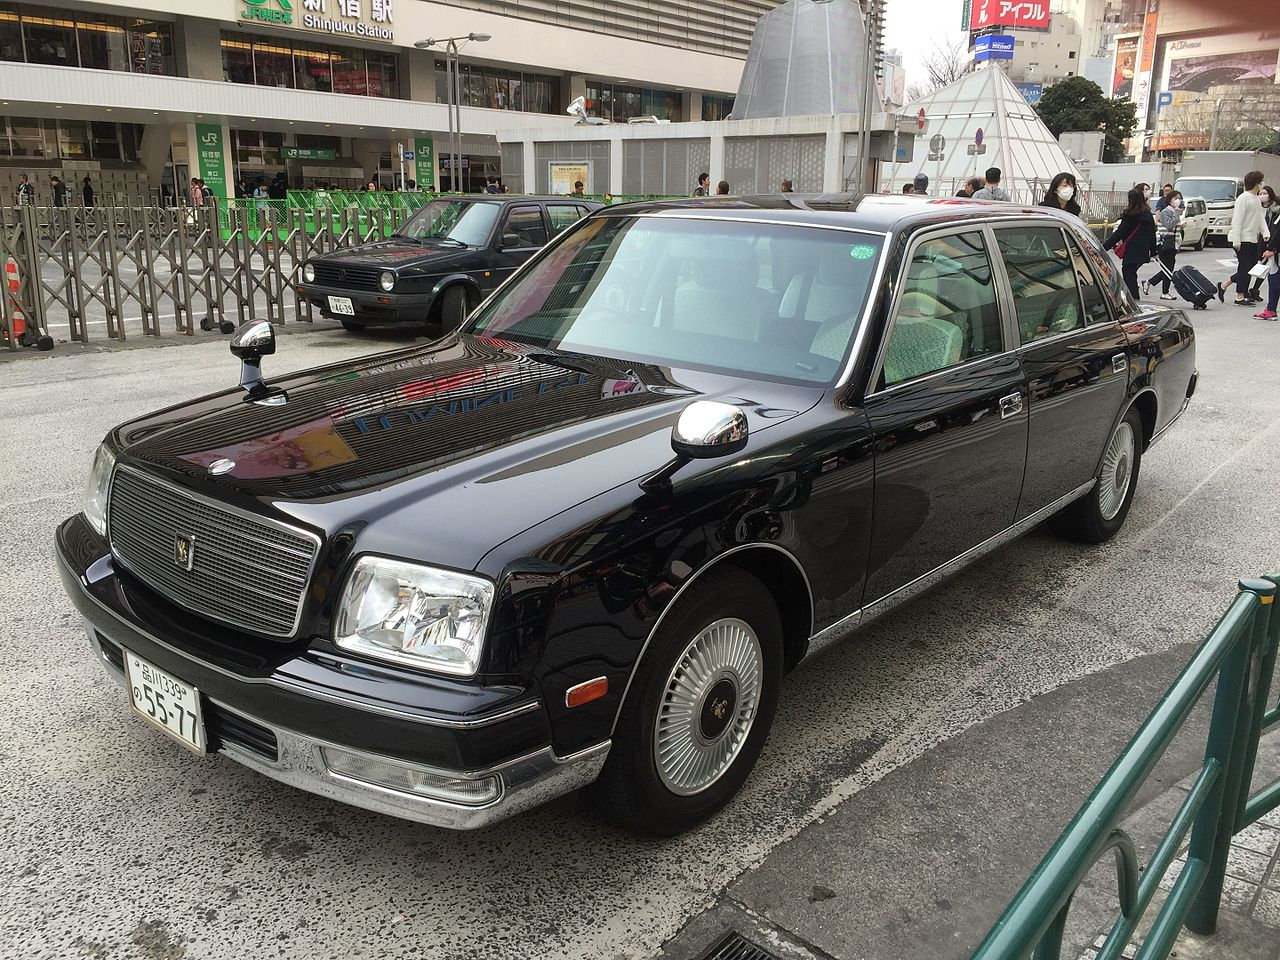plate: (122, 647, 207, 757), (327, 294, 356, 317)
